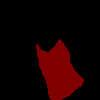canottiera: (36, 38, 84, 100)
